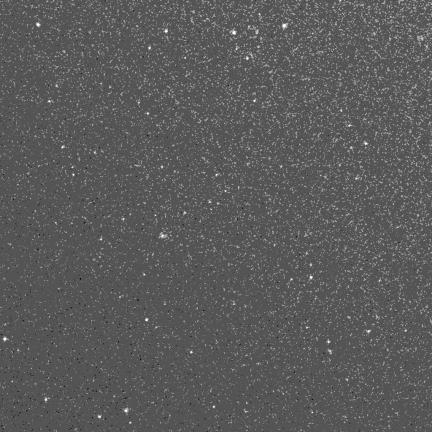blob: (282, 24, 287, 28), (36, 22, 40, 27), (246, 57, 250, 61), (232, 31, 236, 35), (165, 29, 168, 34), (310, 276, 313, 279), (98, 415, 101, 418), (146, 318, 148, 321)
